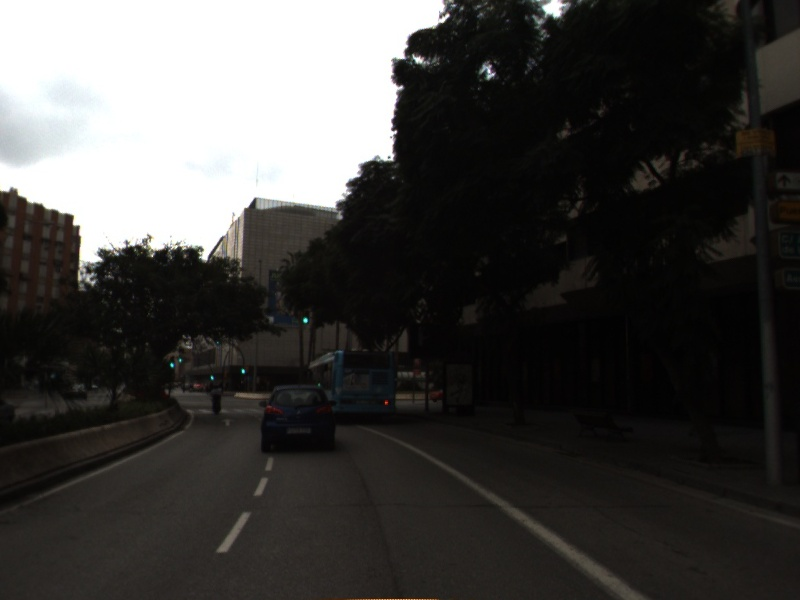STRAIGHT: (218, 416, 238, 428)
